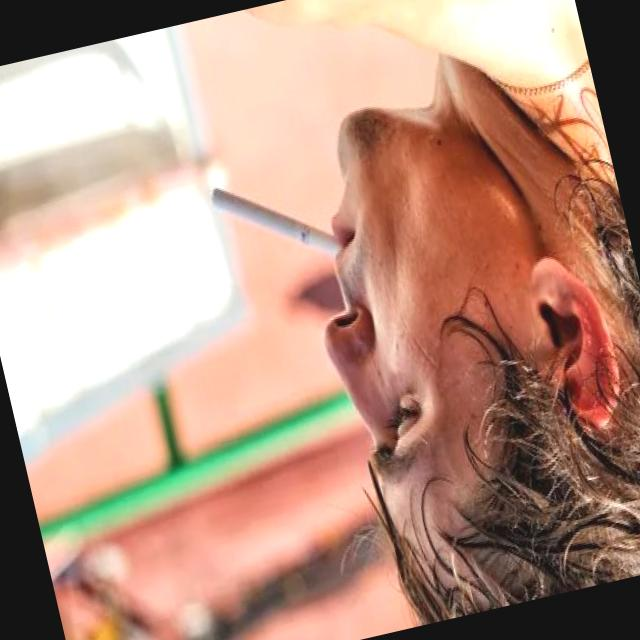cigarette: (200, 152, 354, 298)
